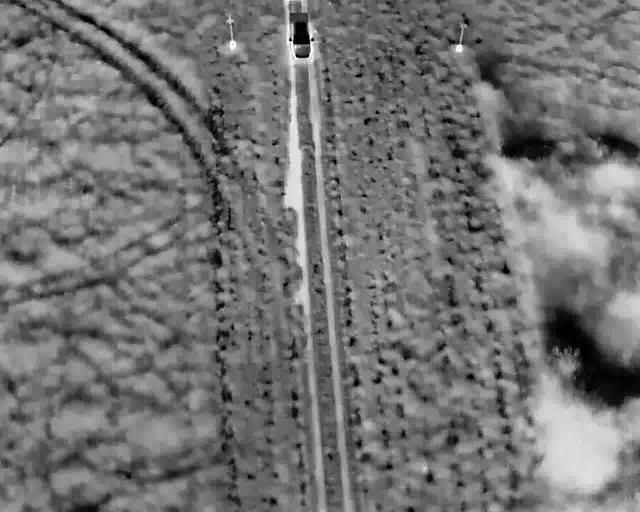car: (282, 9, 319, 61)
